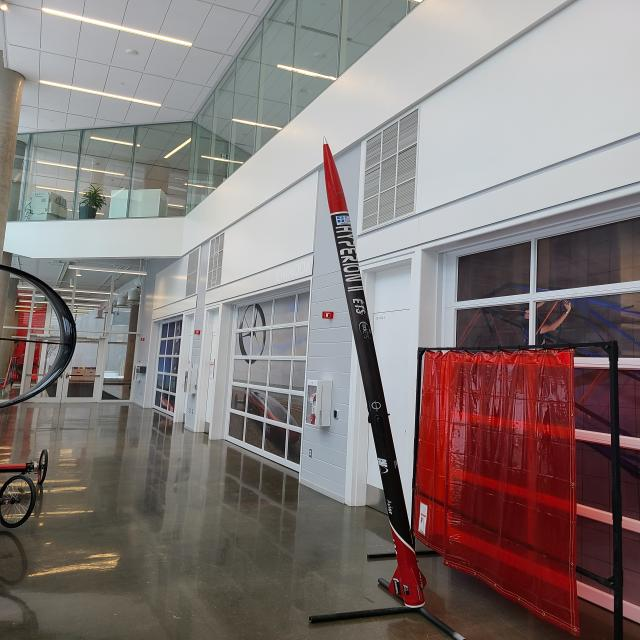Rocket: (323, 135, 427, 606)
